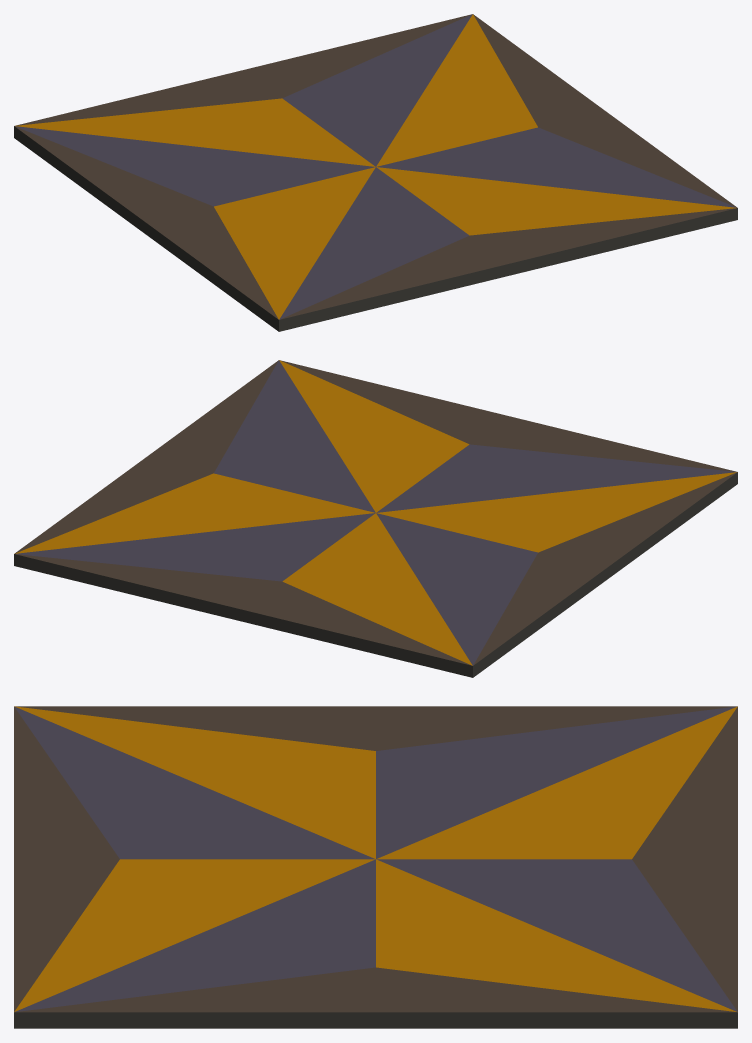
The model's file is Floor_Tiles_2M_05.glb.
3 views of the same model, one above another, from view 1: azimuth 30°, elevation 25°; view 2: azimuth 150°, elevation 25°; view 3: azimuth 270°, elevation 25° (orthographic). The views are drawn at different scales.
Parts seen in each view (by area): view 1: Floor_Tiles_2M_05; view 2: Floor_Tiles_2M_05; view 3: Floor_Tiles_2M_05.
Part boxes in pixels (box(x1,y1,x2,y2)): Floor_Tiles_2M_05: box(14, 14, 737, 331); Floor_Tiles_2M_05: box(14, 360, 737, 677); Floor_Tiles_2M_05: box(14, 706, 737, 1028).
Size of what is drawn, in the model's own units: 2 by 0.05 by 2.
Materials: 1 (1 with a texture image).
